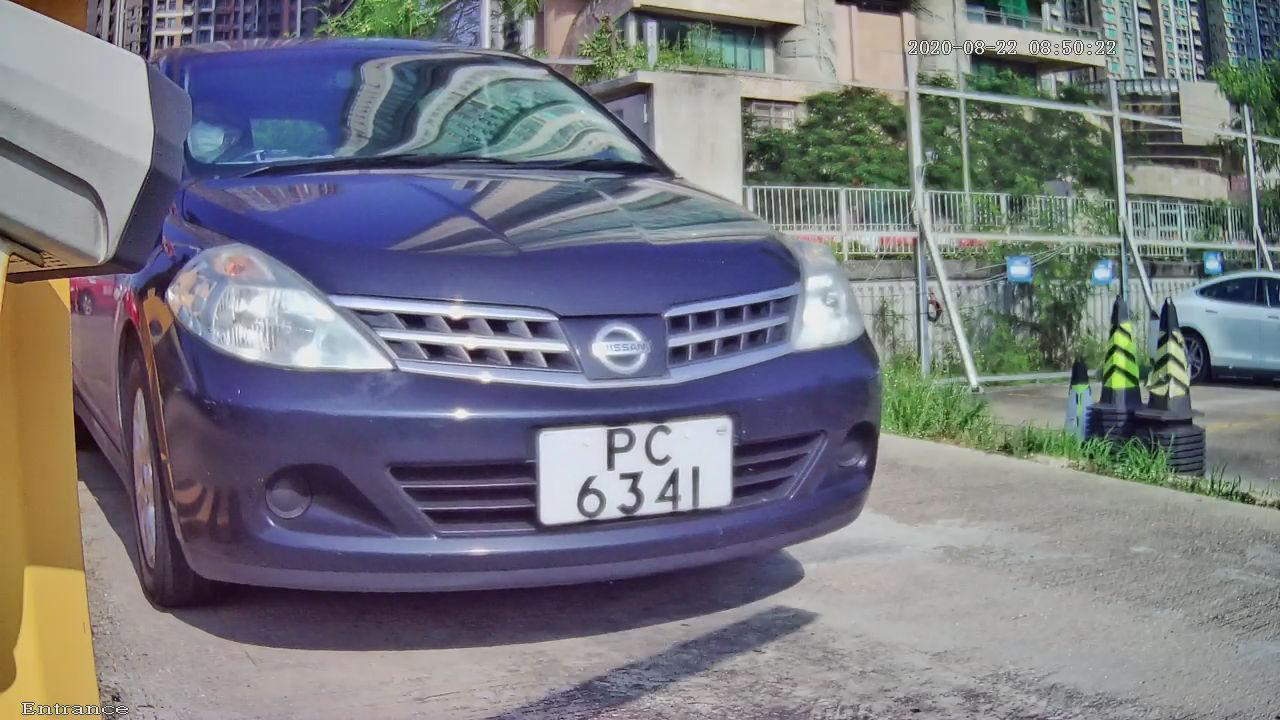License Plate: (521, 406, 743, 537)
